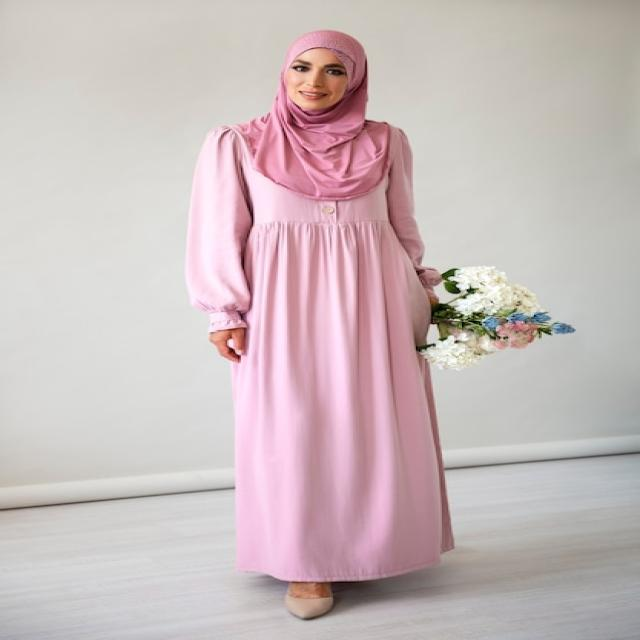Person: (188, 29, 455, 618)
